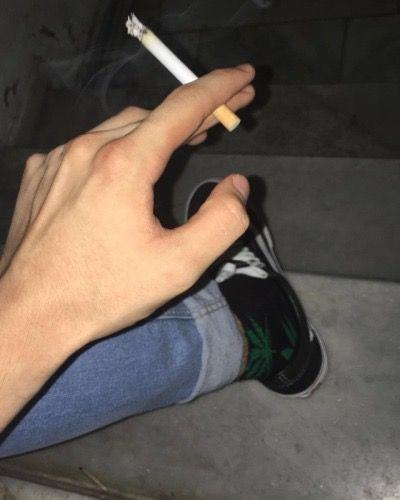cigarette: (123, 11, 242, 132)
